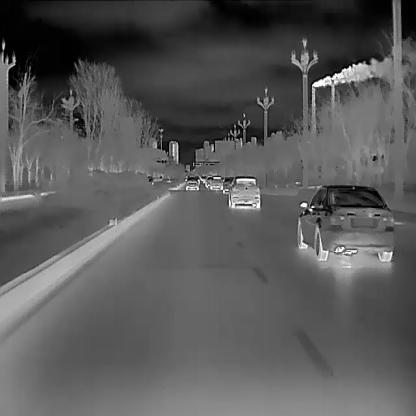car: (297, 184, 393, 261), (228, 176, 261, 208), (220, 177, 234, 193), (185, 176, 200, 190), (210, 176, 224, 190)
